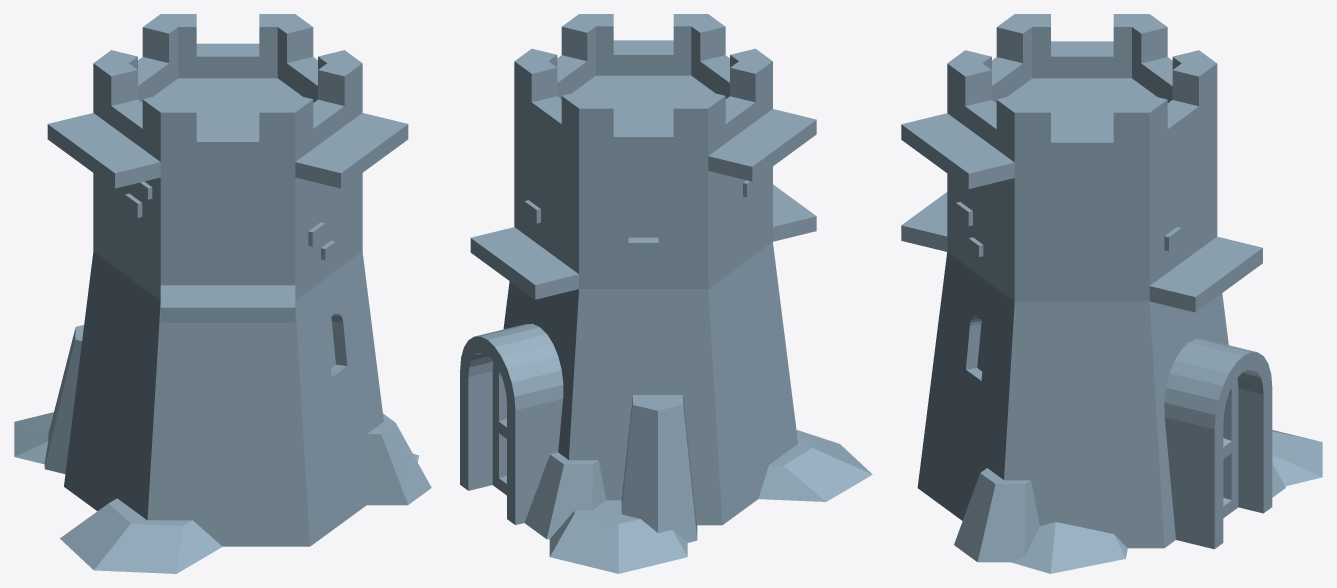
Rendered from tower.glb.
The picture shows the model from 3 angles, left to right: view 1: azimuth 30°, elevation 25°; view 2: azimuth 150°, elevation 25°; view 3: azimuth 270°, elevation 25°; orthographic projection. The views are drawn at different scales.
Visible parts, largest first — view 1: tower; view 2: tower; view 3: tower.
Part boxes in pixels (x1,y1,x2,y2): tower: (14, 14, 431, 573); tower: (460, 14, 872, 573); tower: (901, 14, 1322, 573).
Bounding box in the file's own units: 33.22 × 37.15 × 33.4.
